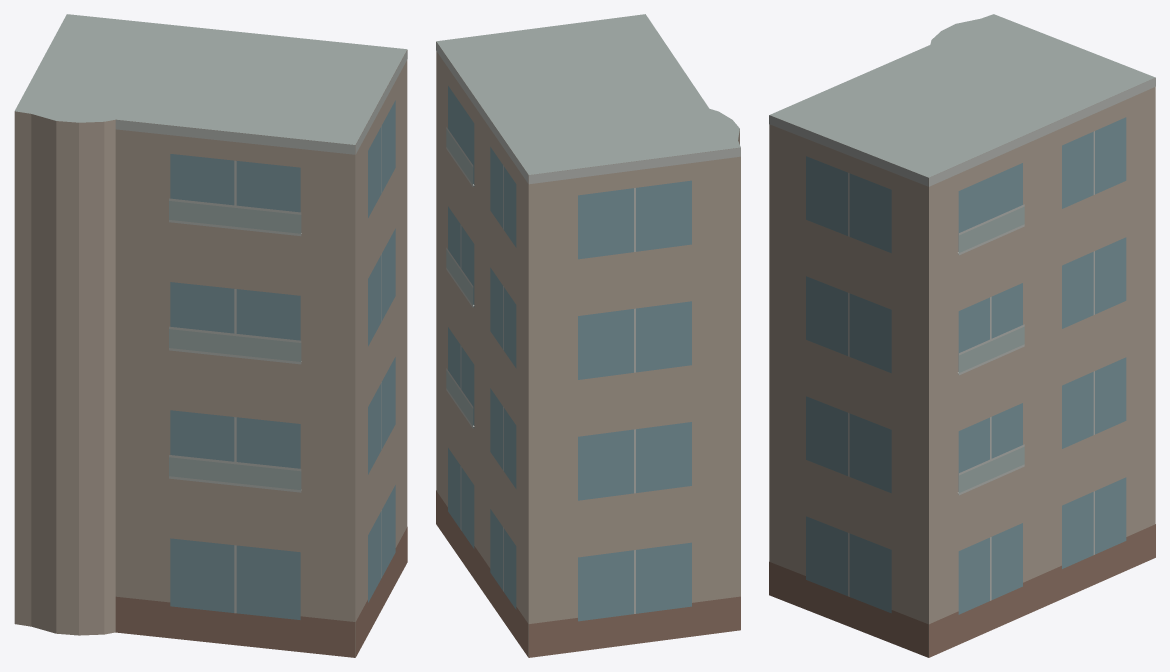
The model's file is survey-upis-32502061.glb.
3 renders of one model, left to right at view 1: azimuth 30°, elevation 25°; view 2: azimuth 150°, elevation 25°; view 3: azimuth 270°, elevation 25°, orthographic. The views are drawn at different scales.
Visible parts, largest first — view 1: survey-upis-32502061.tmp; view 2: survey-upis-32502061.tmp; view 3: survey-upis-32502061.tmp.
Boxes of the visible parts, box(x1,y1,x2,y2) form: survey-upis-32502061.tmp: box(14, 14, 407, 657); survey-upis-32502061.tmp: box(436, 14, 740, 657); survey-upis-32502061.tmp: box(769, 14, 1155, 657).
Size of the model in its own units: 9.37 by 12.8 by 9.34.
